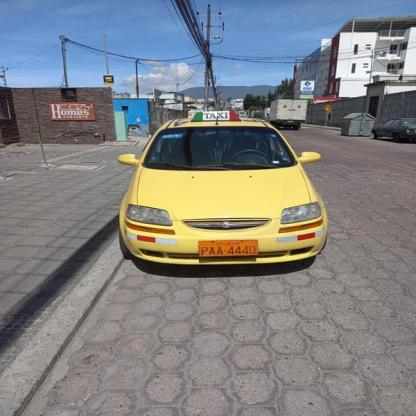Placa: (196, 238, 260, 260)
